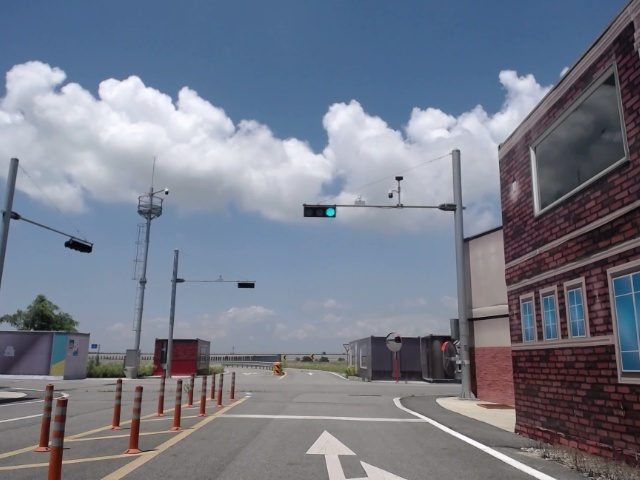green_3: (305, 206, 336, 215)
